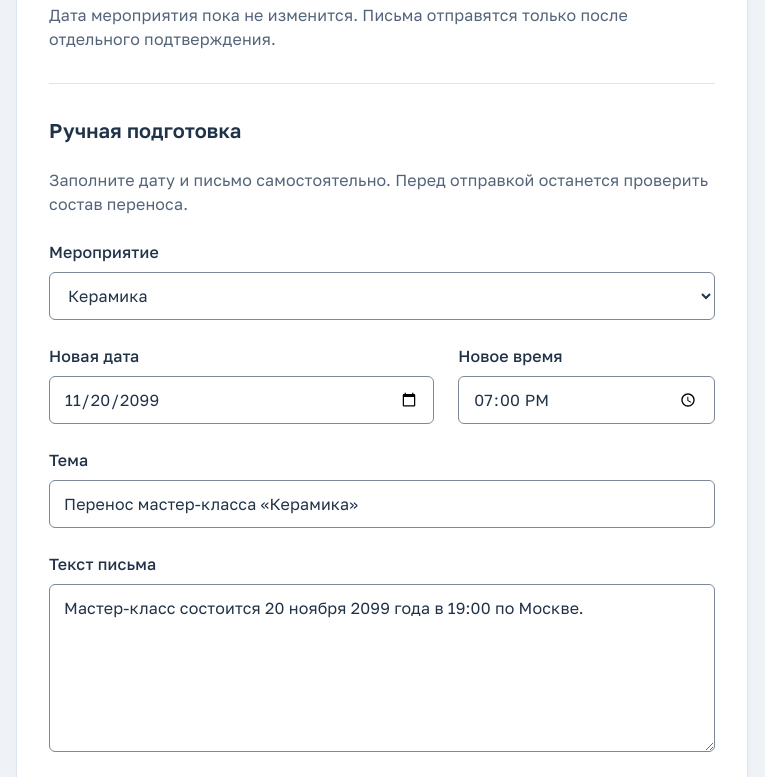
Test: Кабинет организатора — test first › сохраняет изменённую дату PATCH перед rewrite и использует возвращённую revision
(page scrolled)
Expected: the field labelled "Тема" is shown, [49,480,715,528]
Type "2099-11-21" into the date field labelled "Новая дата" at {"x": 242, "y": 400}, box [49,376,434,424]
(page scrolled)
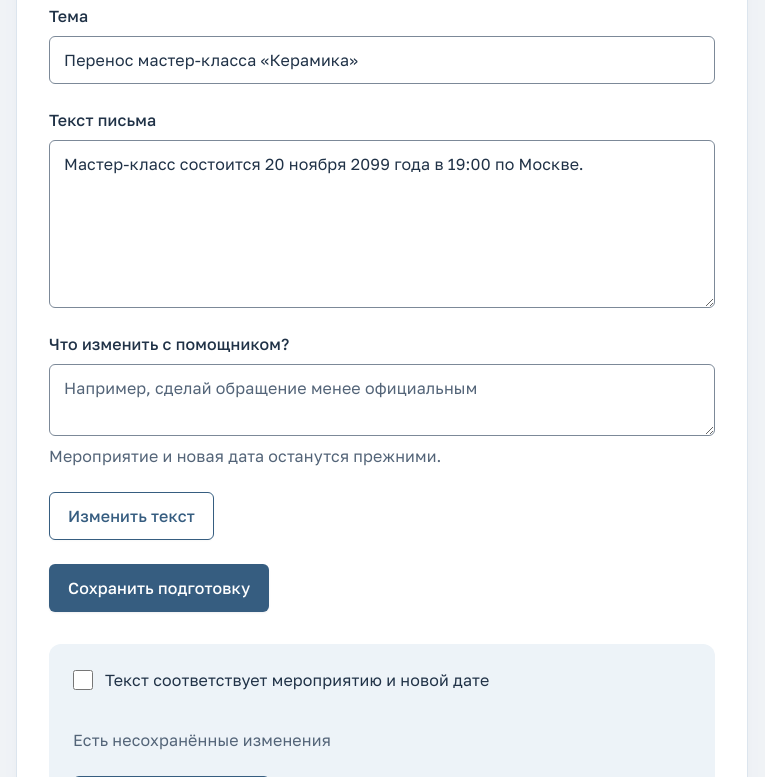
Type "Сделай короче" into the text box labelled "Что изменить с помощником?" at {"x": 382, "y": 400}, box [49,364,715,436]
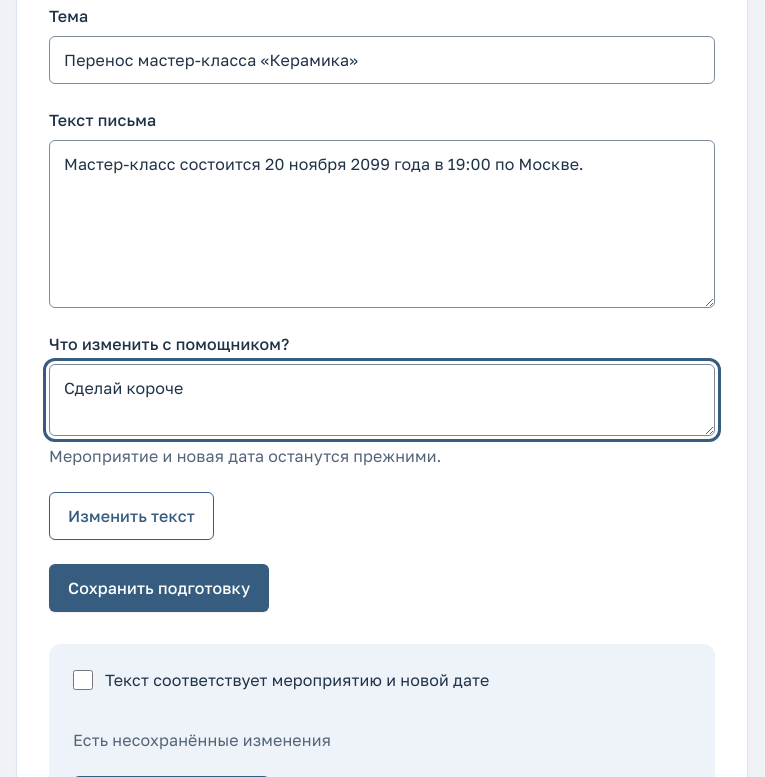
Click the button "Изменить текст" at {"x": 131, "y": 516}, box [49,492,214,540]
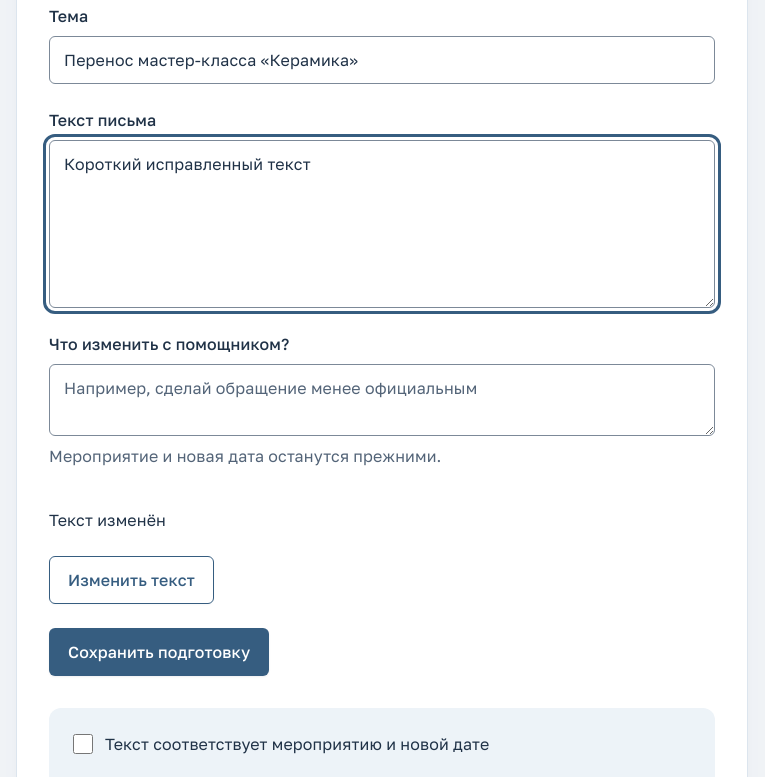
Expected: the text box labelled "Текст письма" holds "Короткий исправленный текст", [49,140,715,308]
